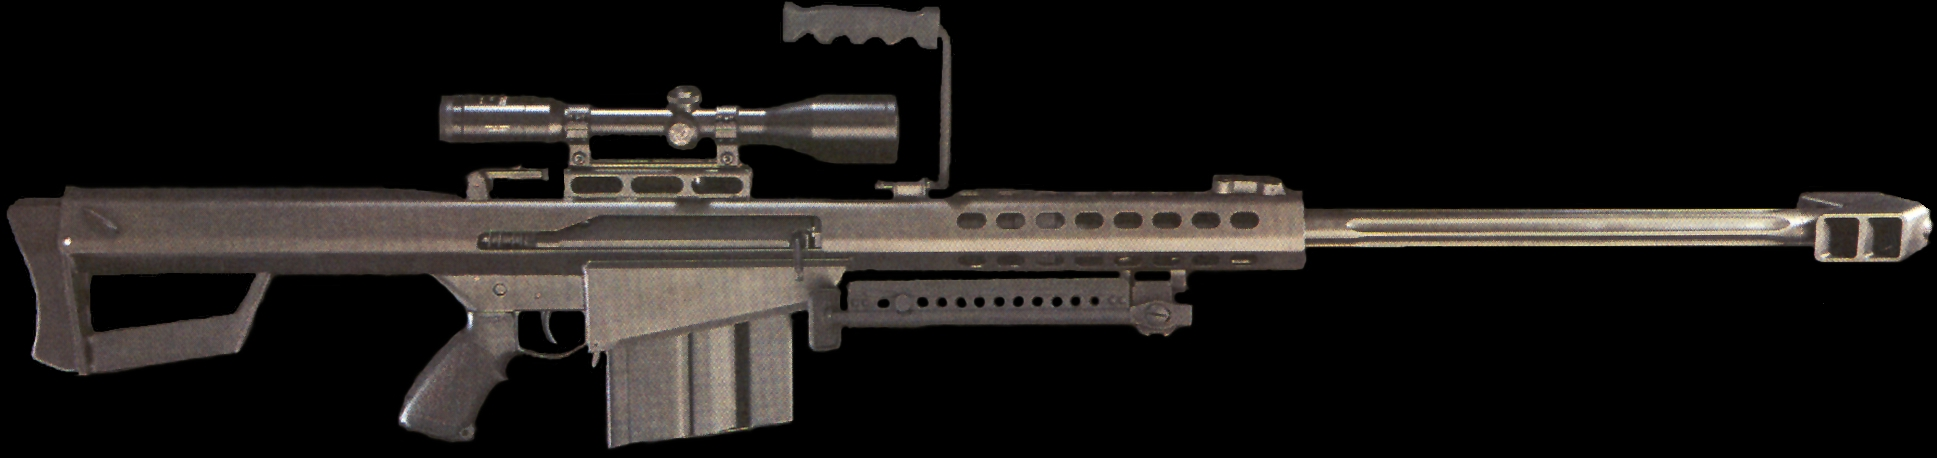rifle: (32, 42, 1897, 418)
